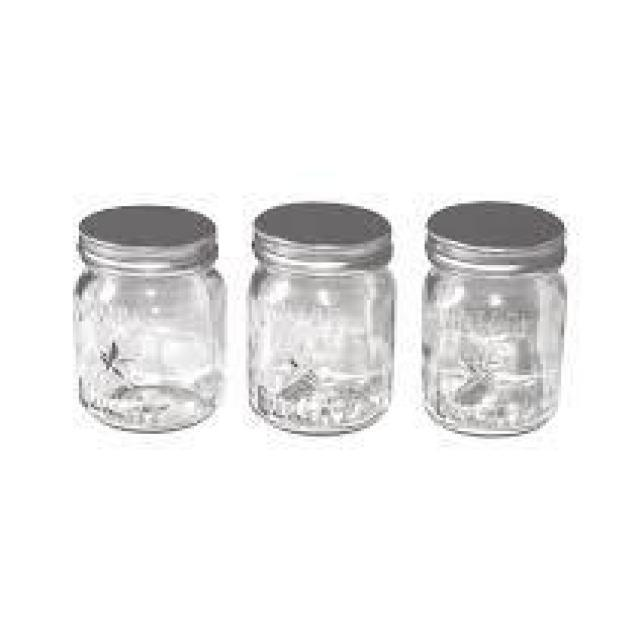glass: (64, 199, 230, 438)
